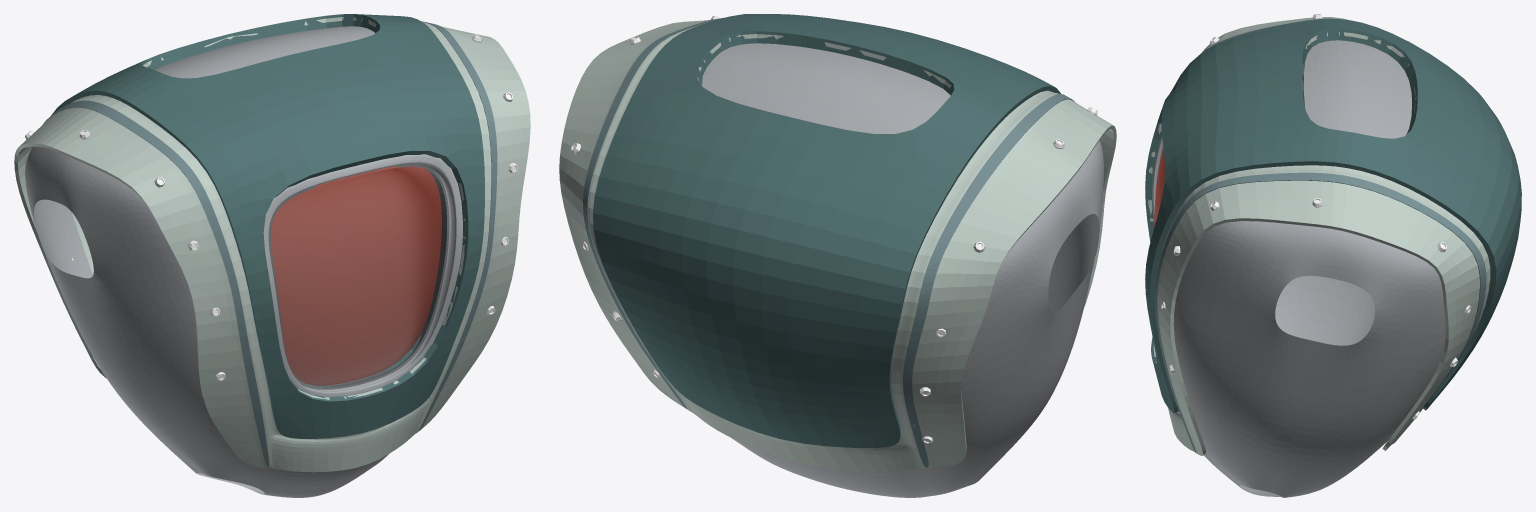
The model's file is chest.glb.
3 renders of one model, left to right at view 1: azimuth 30°, elevation 25°; view 2: azimuth 150°, elevation 25°; view 3: azimuth 270°, elevation 25°, orthographic. The views are drawn at different scales.
Visible parts, largest first — view 1: CHEST; view 2: CHEST; view 3: CHEST.
Part boxes in pixels (left/top/right/bottom): CHEST: left=14, top=14, right=530, bottom=497; CHEST: left=559, top=14, right=1116, bottom=497; CHEST: left=1145, top=14, right=1521, bottom=497.
Bounding box in the file's own units: 3.13 × 2.84 × 2.37.
